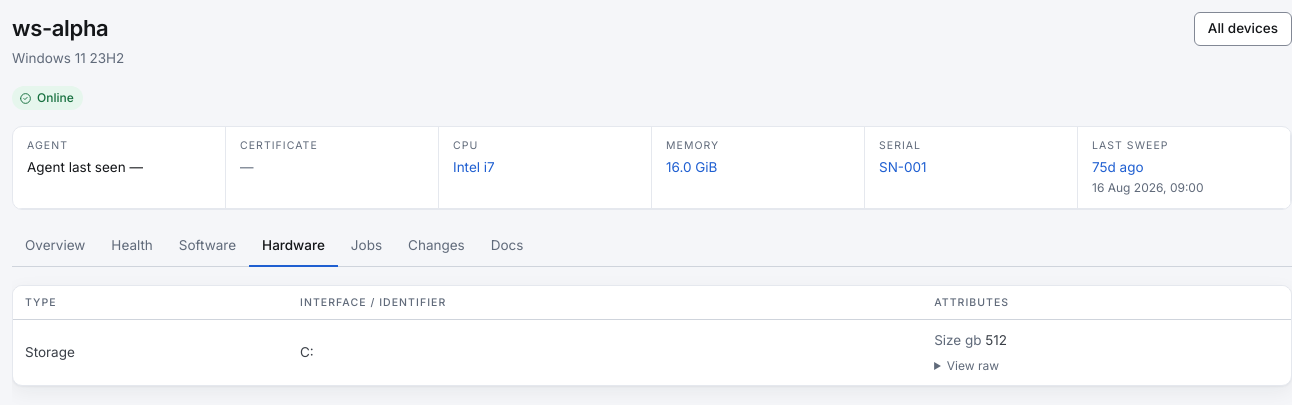
Test: DeviceDetailPage › fetches jobs only once the Jobs tab is selected, and shows only this device's jobs
Expected: the heading "ws-alpha" is shown, [12,12,124,45]
Click the tab "Jobs". click: click(366, 246)
box: [338,226,395,267]
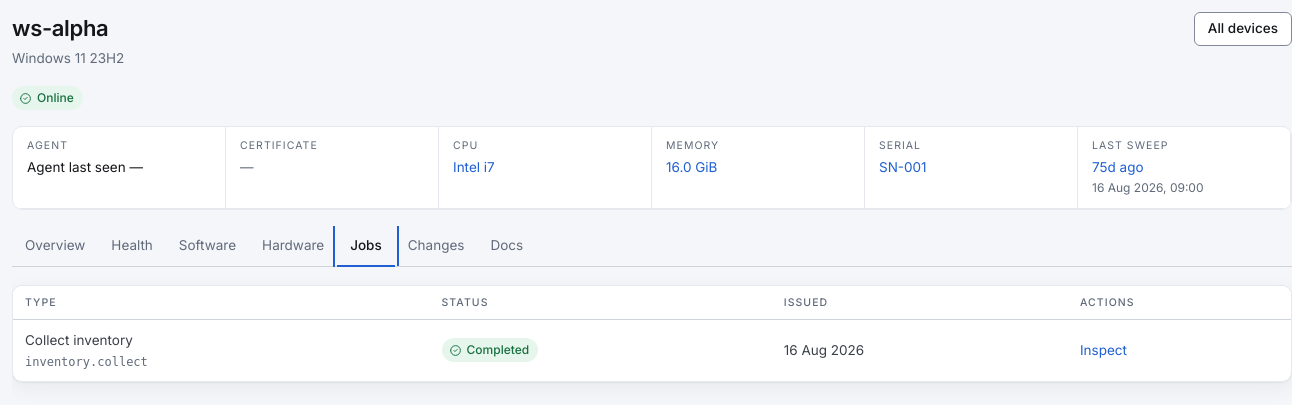
Expected: the text "inventory.collect" is shown, [25,354,148,368]
